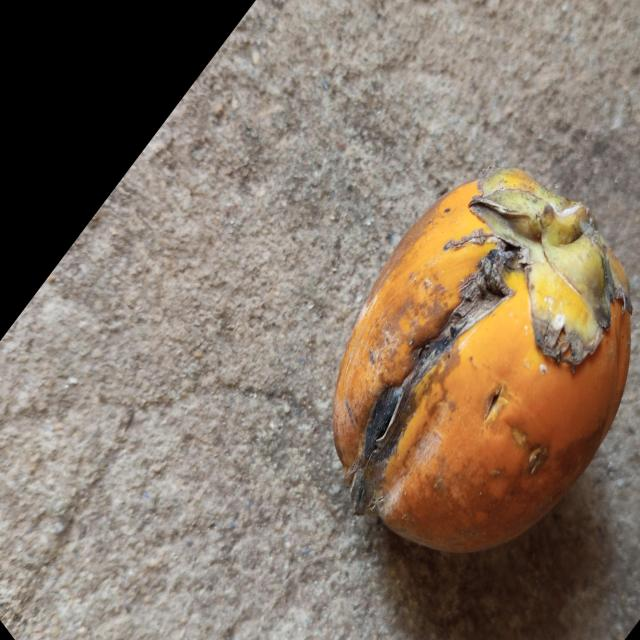damaged: (331, 170, 633, 556)
